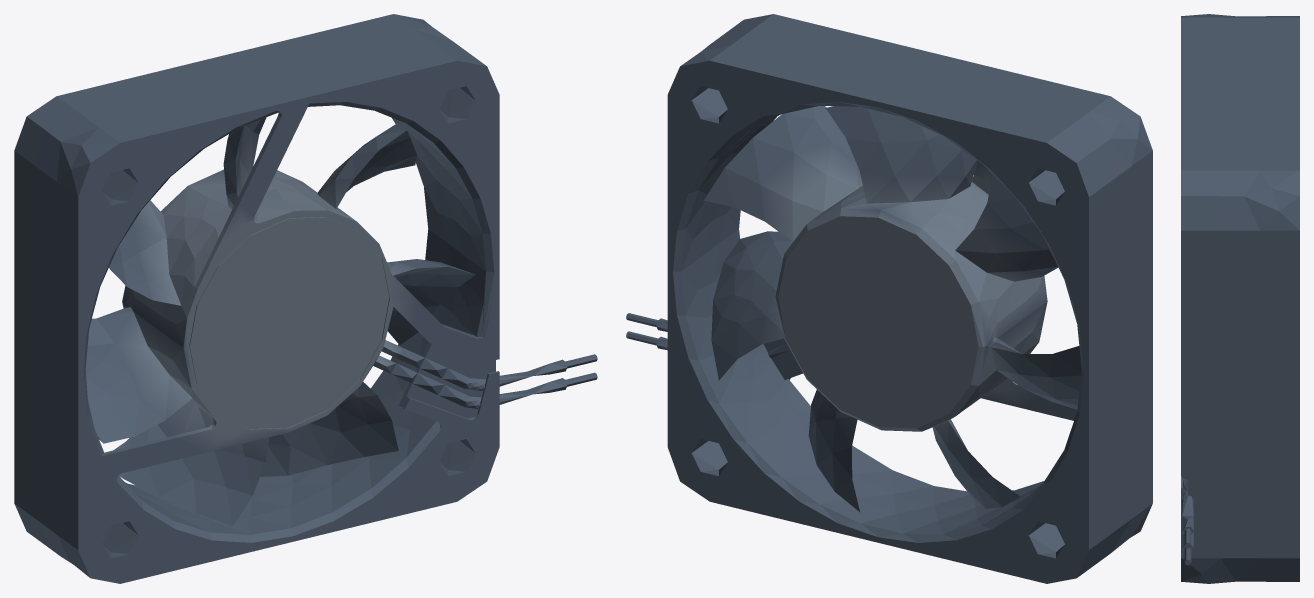
File: fan.glb
The picture shows the model from 3 angles, left to right: view 1: azimuth 30°, elevation 25°; view 2: azimuth 150°, elevation 25°; view 3: azimuth 270°, elevation 25°; orthographic projection. The views are drawn at different scales.
Visible parts, largest first — view 1: Created by Gmsh; view 2: Created by Gmsh; view 3: Created by Gmsh.
Part boxes in pixels (bbox=[...]): Created by Gmsh: bbox=[14, 14, 597, 583]; Created by Gmsh: bbox=[626, 14, 1152, 583]; Created by Gmsh: bbox=[1181, 14, 1299, 583].
Bounding box in the file's own units: 0.7424 × 0.6 × 0.1575.
